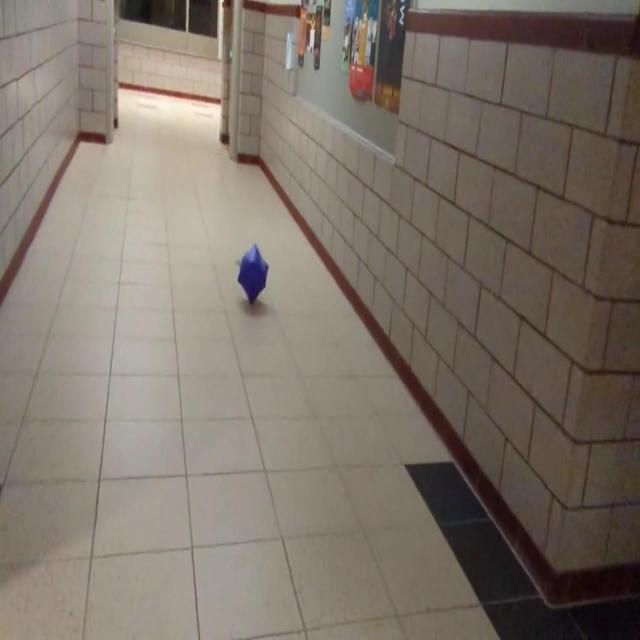frc_cube: (238, 247, 268, 301)
